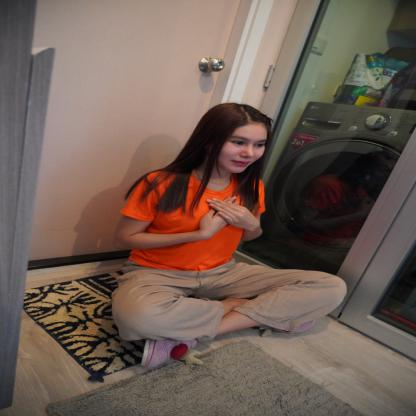Grieve: (193, 195, 265, 239)
